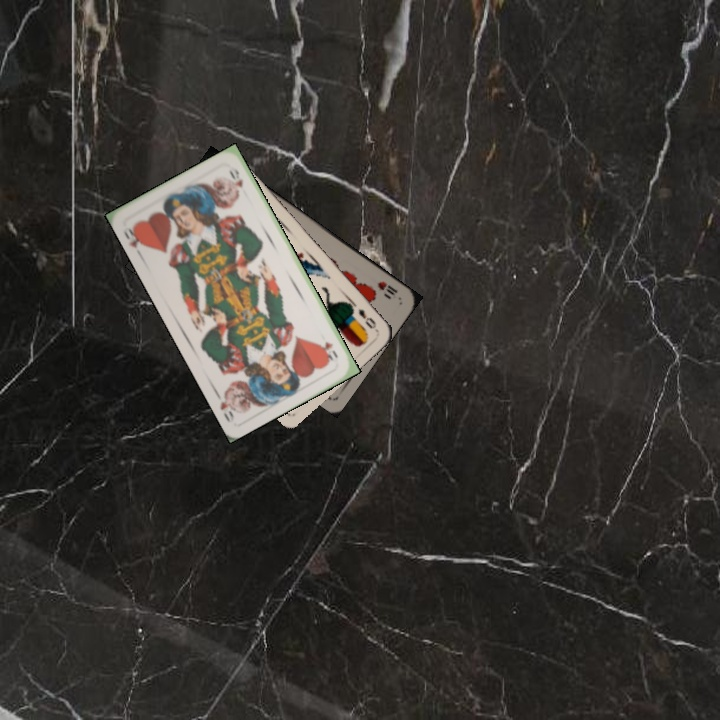EO: (354, 304, 379, 331)
H10: (373, 277, 400, 301)
HO: (119, 220, 148, 259), (319, 338, 341, 363)
